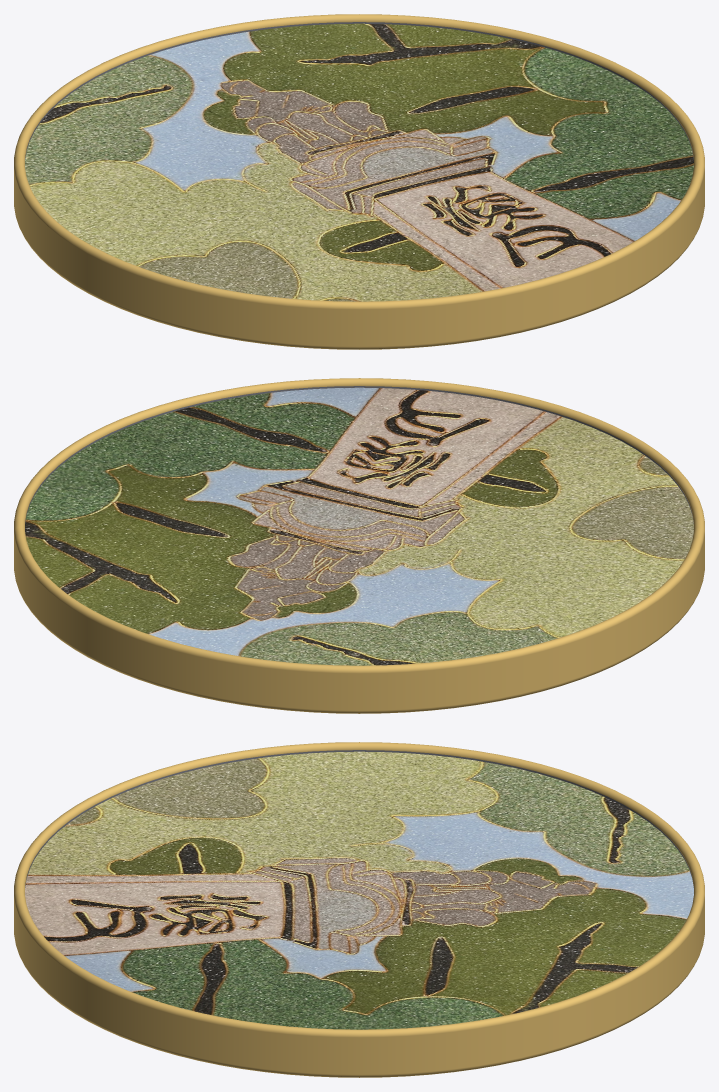
File: 宋公园.glb
3 views of the same model, one above another, from view 1: azimuth 30°, elevation 25°; view 2: azimuth 150°, elevation 25°; view 3: azimuth 270°, elevation 25° (orthographic).
Parts seen in each view (by area): view 1: Mesh_1, Mesh_2, Mesh_0; view 2: Mesh_1, Mesh_2, Mesh_0; view 3: Mesh_1, Mesh_2, Mesh_0.
Part boxes in pixels (bbox=[...]): Mesh_1: bbox=[25, 23, 693, 301]; Mesh_2: bbox=[14, 14, 704, 349]; Mesh_0: bbox=[25, 22, 693, 159]; Mesh_1: bbox=[25, 387, 693, 665]; Mesh_2: bbox=[14, 378, 704, 713]; Mesh_0: bbox=[25, 386, 693, 523]; Mesh_1: bbox=[25, 751, 693, 1029]; Mesh_2: bbox=[14, 742, 704, 1077]; Mesh_0: bbox=[25, 750, 693, 887].
Size of the model in its own units: 0.186 by 0.014 by 0.1859.
Materials: 3 (1 with a texture image).
